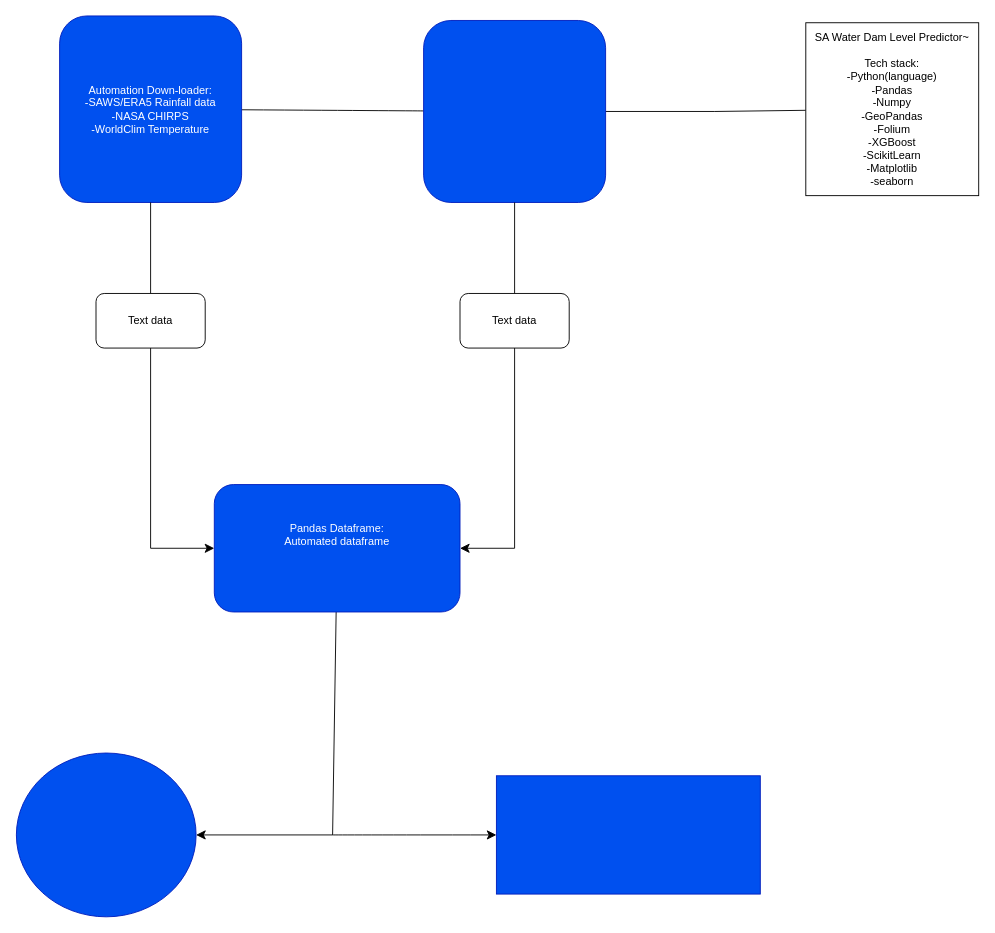
This 995x933 diagram has some shape labels left out. Each missing label, with the centre of its shape:
"lag feature engineering Rolling averages Seasonal features" belongs at (627,834).
"Time series plot" belongs at (105,834).
"Webscraper: -seaborn Webscraper Websites: -dws.gove.zaa" belongs at (514,111).
